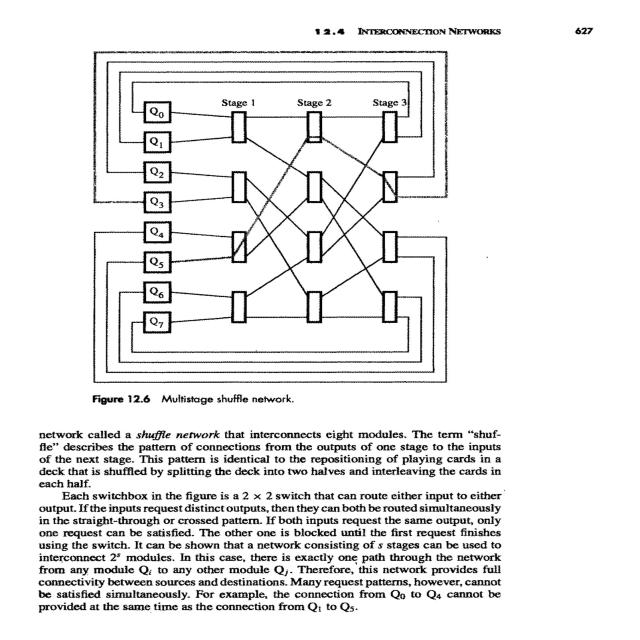diagram: (26, 36, 512, 419)
